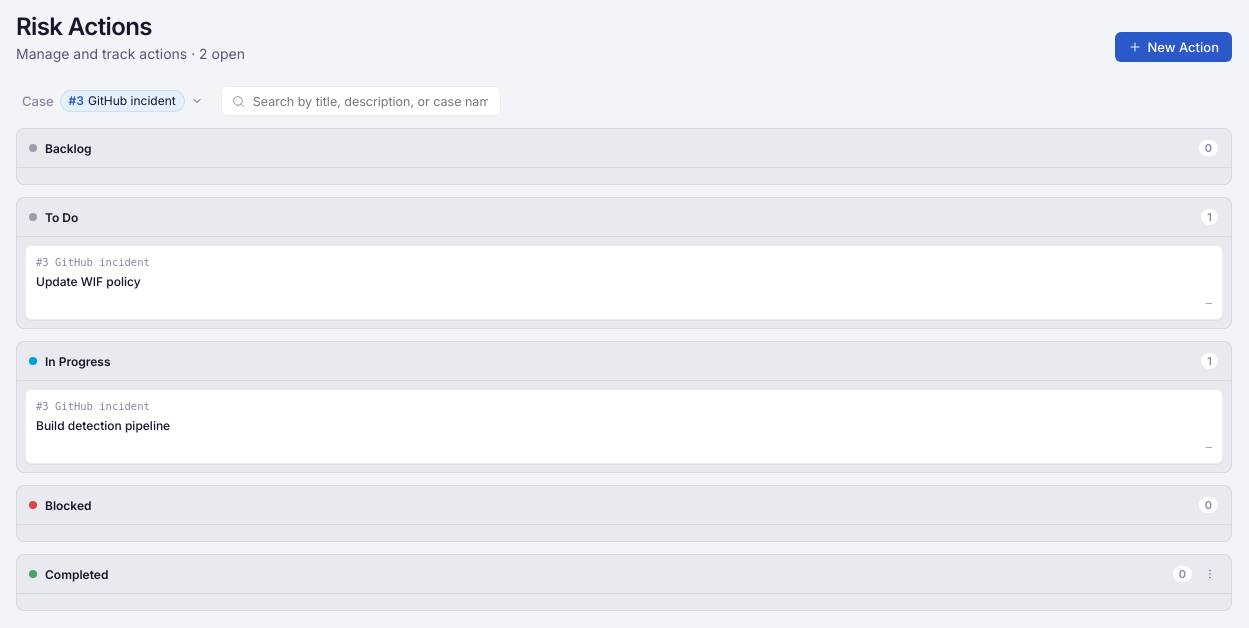
Test case: ActionList case filter › combines text search with case filter (AND)
Check: the number of buttons with test id "action-card" is 2, box x1=25 y1=245 x2=1223 y2=320; x1=25 y1=389 x2=1223 y2=464
Type "WIF" into the field with test id "action-search-input" at (370, 101), box x1=251 y1=92 x2=490 y2=110
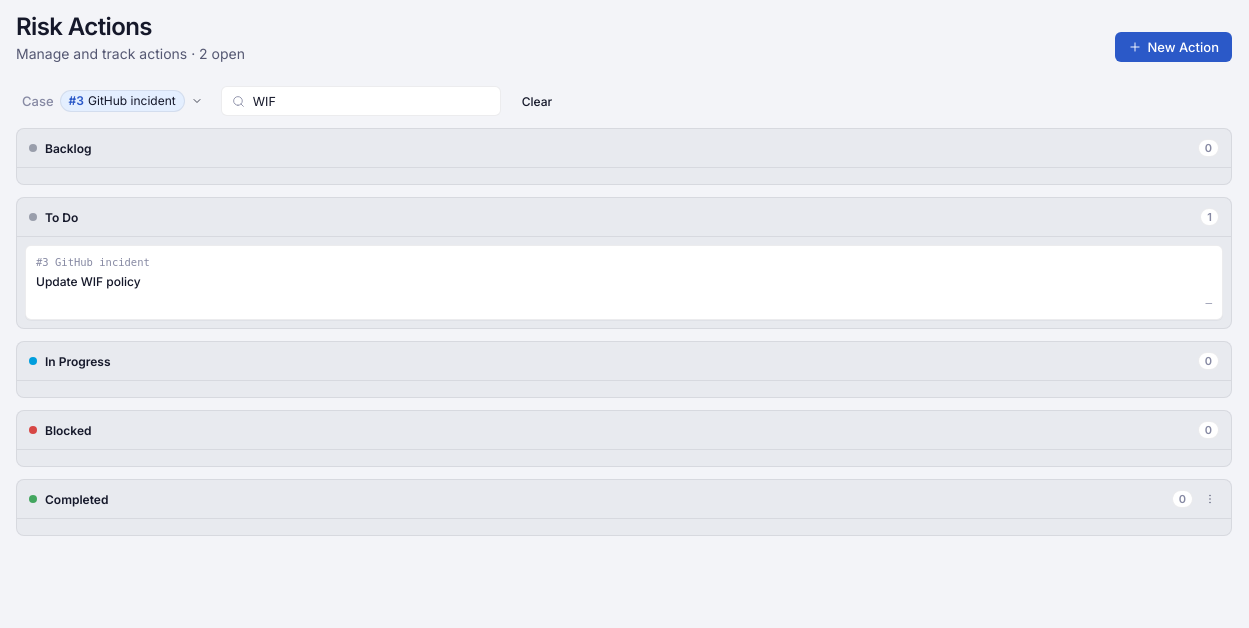
Check: the text "Update WIF policy" is shown, box x1=36 y1=274 x2=141 y2=289
Check: the number of buttons with test id "action-card" is 1, box x1=25 y1=245 x2=1223 y2=320
